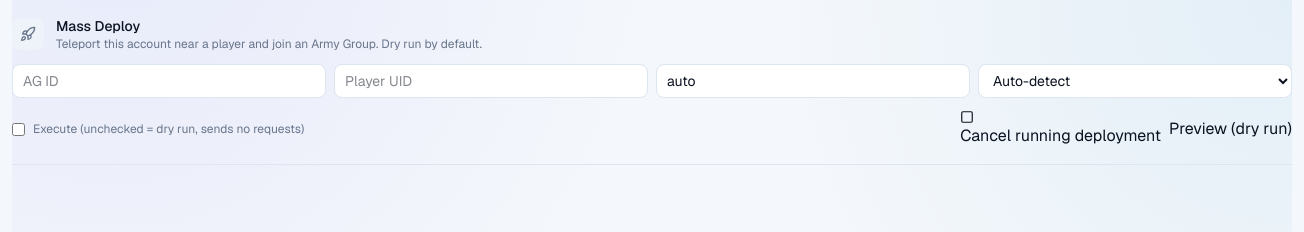
Test case: MassDeployControl › renders errors cleanly without crashing
Type "12345" into the field named "army group id" at (169, 81), box [12, 64, 326, 98]
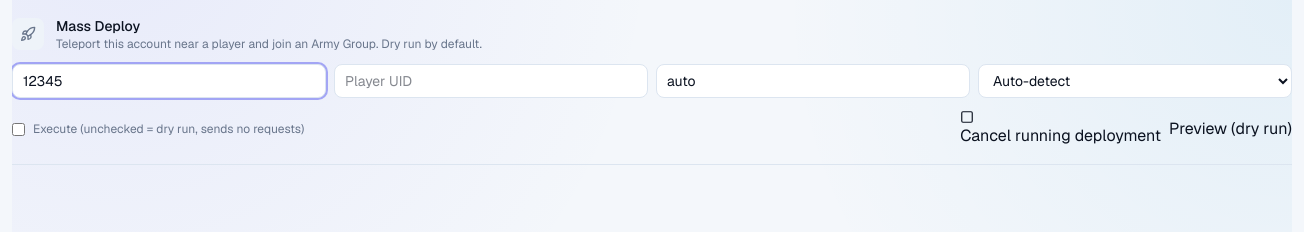
Type "67890" into the field named "target player uid" at (491, 81), box [334, 64, 648, 98]
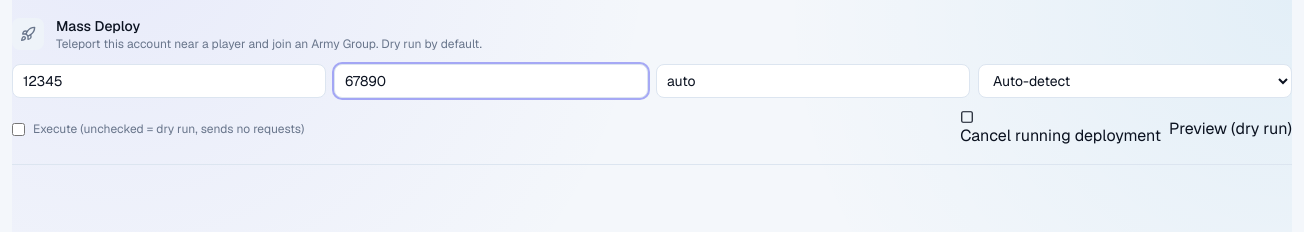
Click the button "Preview (dry run)" at (1230, 129), box [1169, 117, 1292, 141]
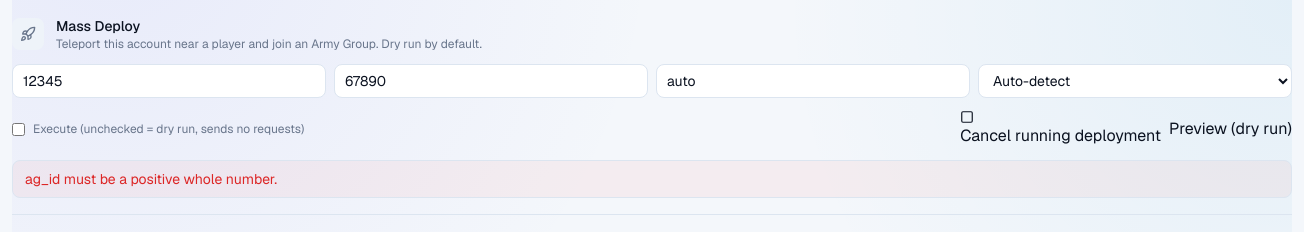
Now the text "ag_id must be a positive whole number." is shown, box [12, 160, 1292, 198]
